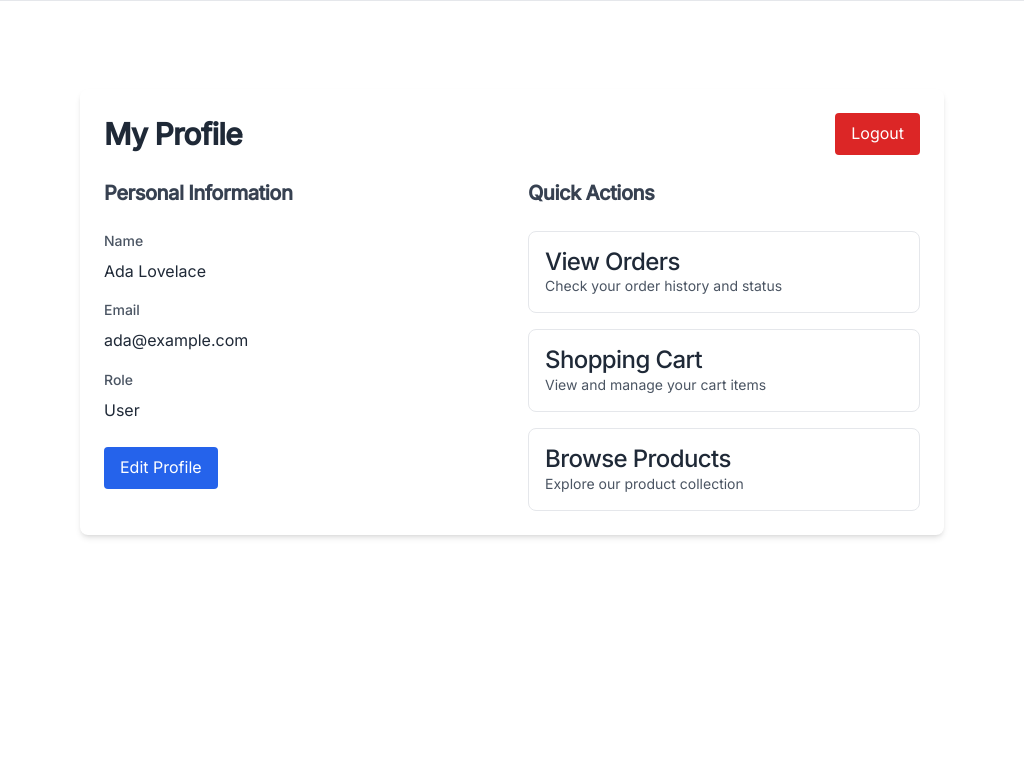
Test: Profile page › discards edits on Cancel
Click the button "Edit Profile" at (161, 468), box x1=104 y1=447 x2=218 y2=489
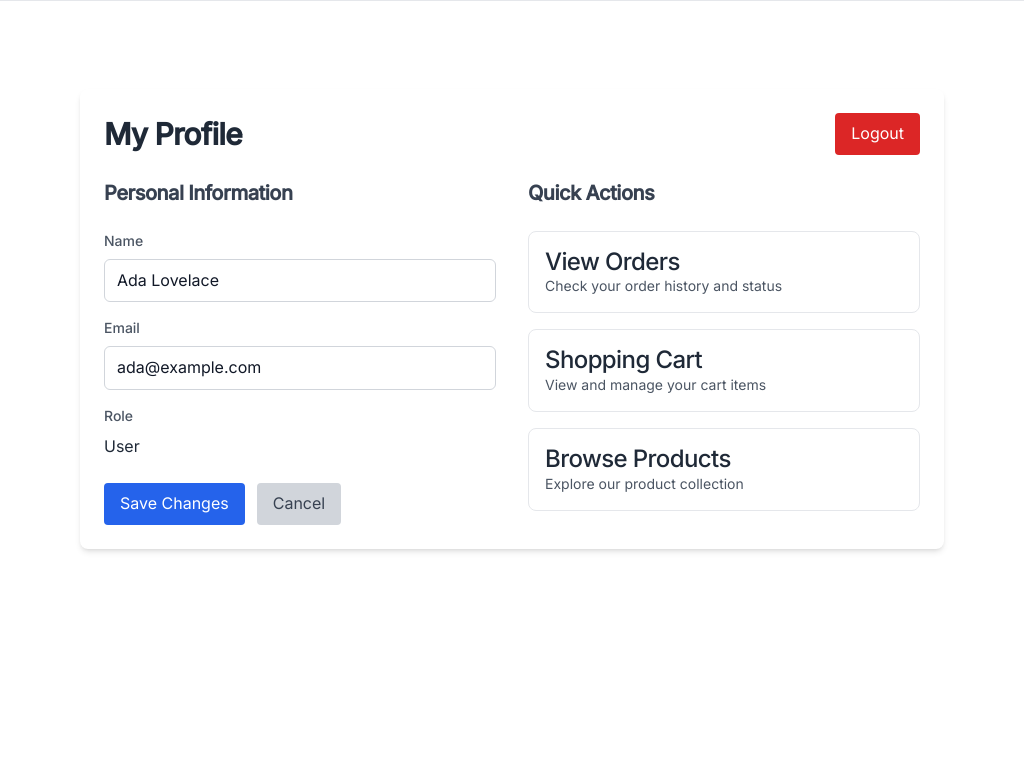
Replace the text in the field showing "Ada Lovelace" below "Name" with "Temp Name" at (300, 280), box x1=104 y1=259 x2=496 y2=302
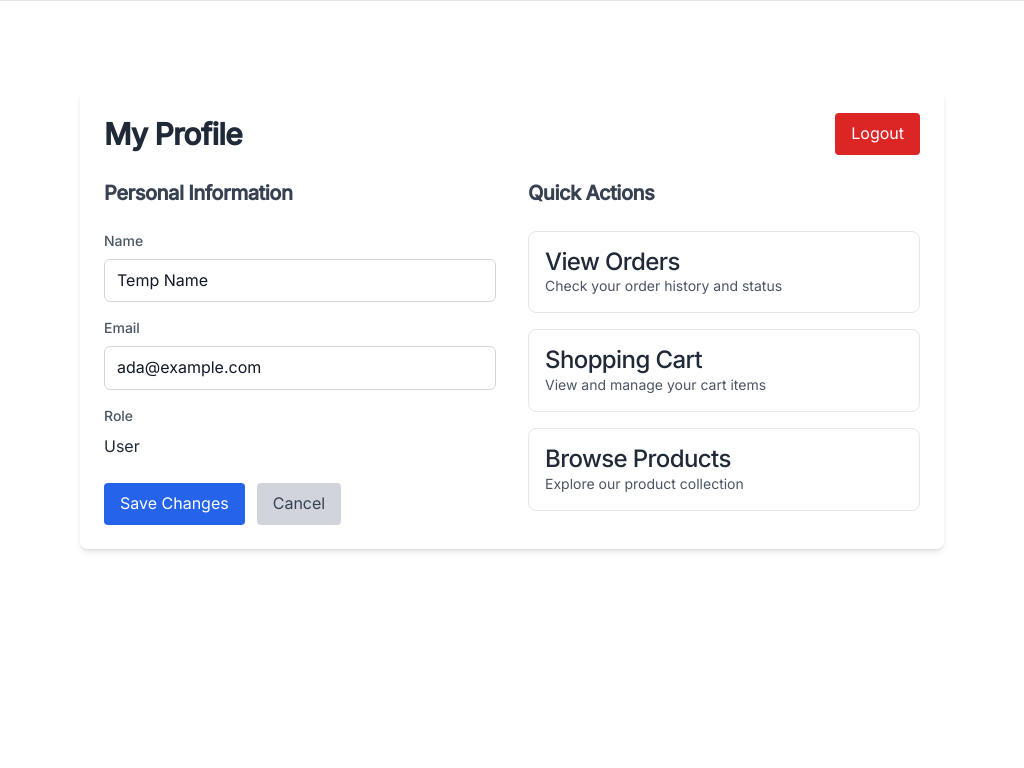
Click the button "Cancel" at (299, 504), box x1=257 y1=483 x2=341 y2=525
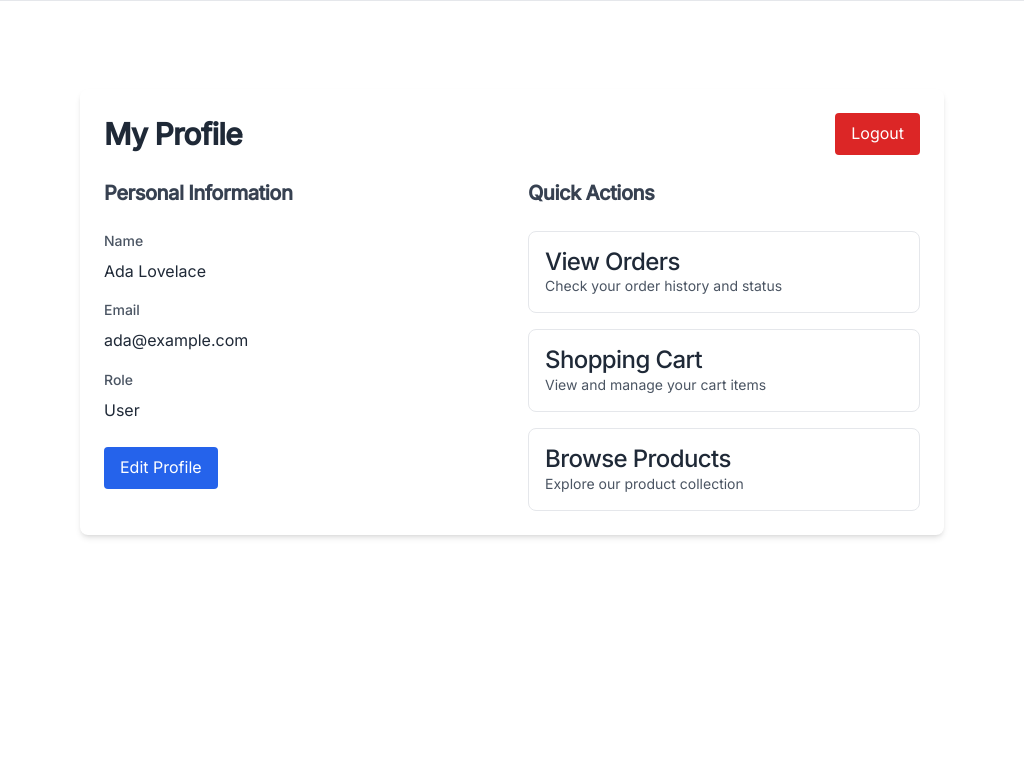
Click the button "Edit Profile" at (161, 468), box x1=104 y1=447 x2=218 y2=489
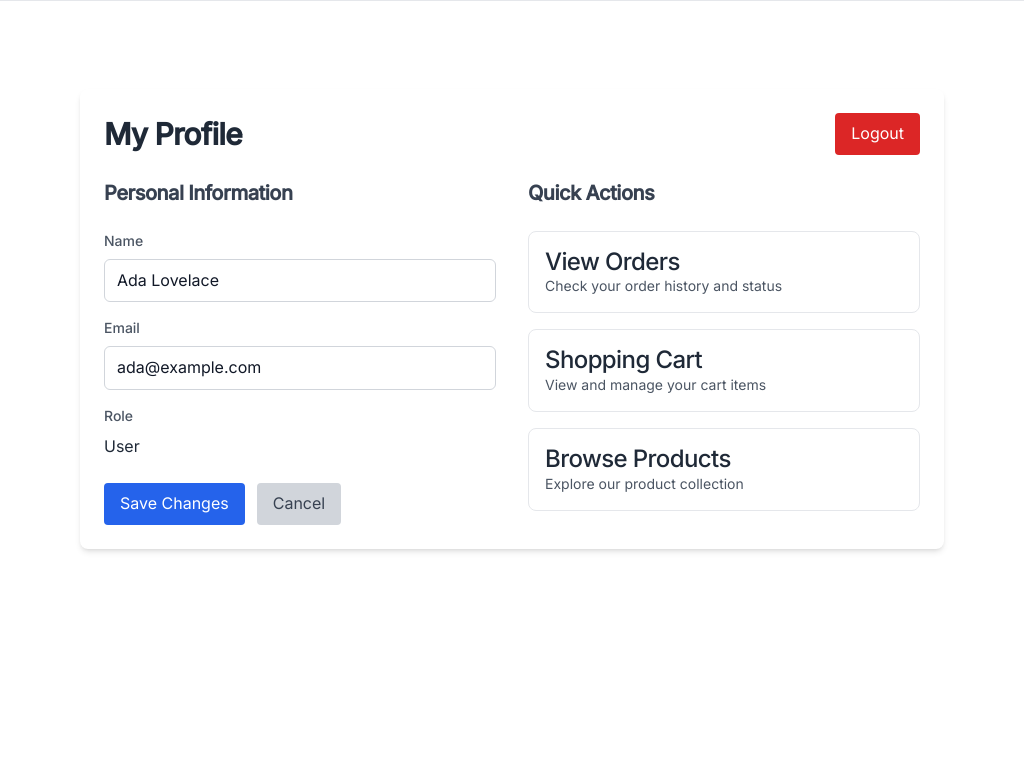
Expected: the field showing "Ada Lovelace" below "Name" is shown, x1=104 y1=259 x2=496 y2=302
